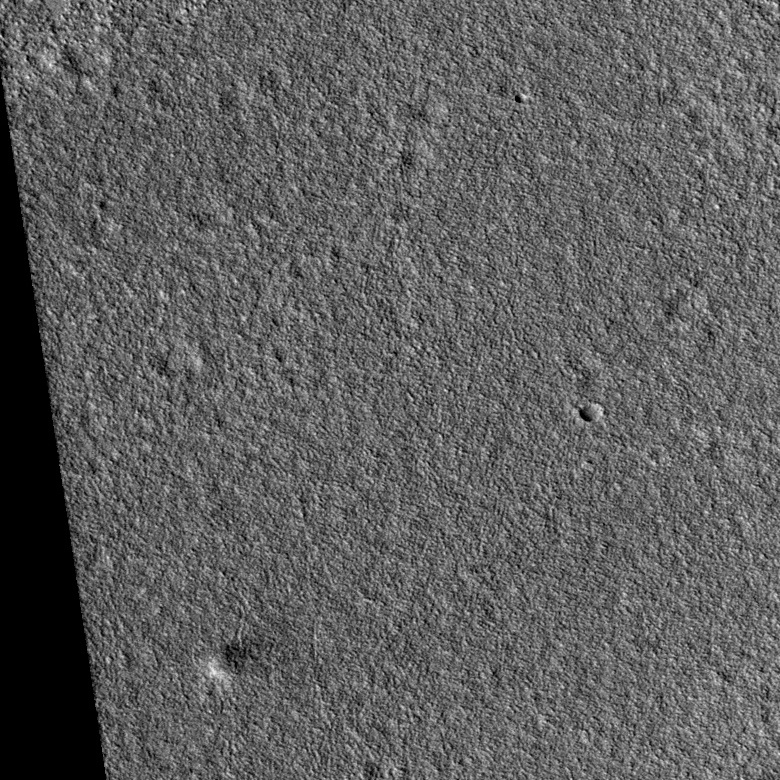dust_devil: (200, 632, 275, 685)
